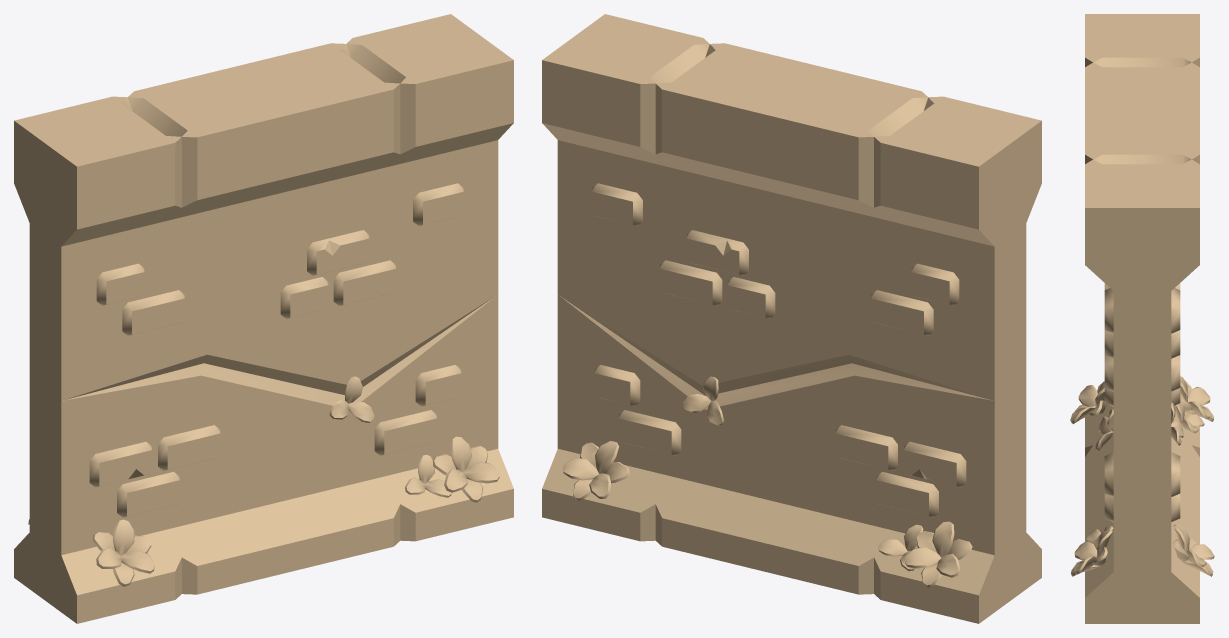
The model's file is wall_cracked.glb.
3 renders of one model, left to right at view 1: azimuth 30°, elevation 25°; view 2: azimuth 150°, elevation 25°; view 3: azimuth 270°, elevation 25°, orthographic. The views are drawn at different scales.
Parts seen in each view (by area): view 1: wall_cracked; view 2: wall_cracked; view 3: wall_cracked.
Part boxes in pixels (bbox=[...]): wall_cracked: bbox=[14, 14, 513, 623]; wall_cracked: bbox=[542, 14, 1041, 623]; wall_cracked: bbox=[1070, 14, 1214, 623].
Bounding box in the file's own units: 4 × 4 × 1.26.
